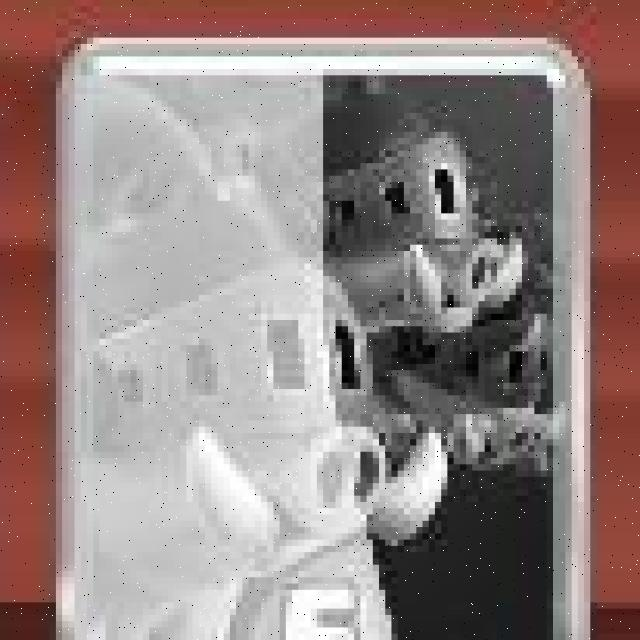Royal_Hogs: (51, 24, 593, 640)
